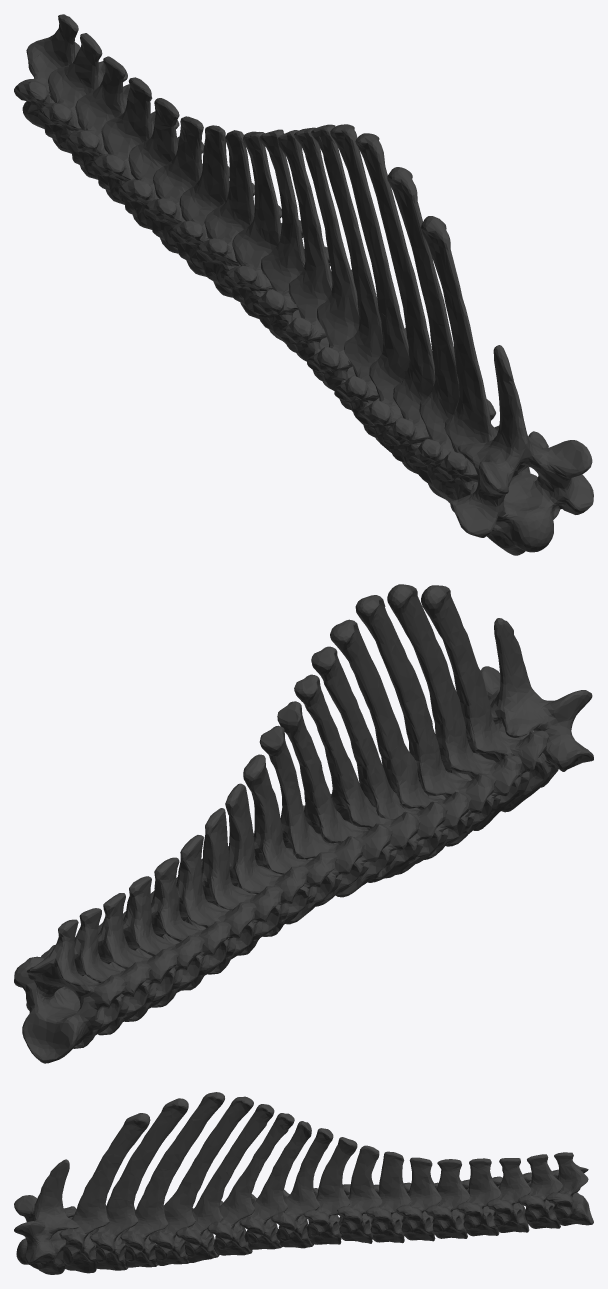
File: THORACIC_VERTEBRAE_fill_gaps.glb
3 views of the same model, one above another, from view 1: azimuth 30°, elevation 25°; view 2: azimuth 150°, elevation 25°; view 3: azimuth 270°, elevation 25° (orthographic). The views are drawn at different scales.
Visible parts, largest first — view 1: THORACIC_VERTEBRAE_fill_gaps; view 2: THORACIC_VERTEBRAE_fill_gaps; view 3: THORACIC_VERTEBRAE_fill_gaps.
Boxes of the visible parts, x1,y1,x2,y2 form: THORACIC_VERTEBRAE_fill_gaps: (14,14,593,555); THORACIC_VERTEBRAE_fill_gaps: (14,584,593,1063); THORACIC_VERTEBRAE_fill_gaps: (14,1092,593,1274).
Bounding box in the file's own units: 0.1517 × 0.3408 × 0.985.
1 material, 1 textured.
